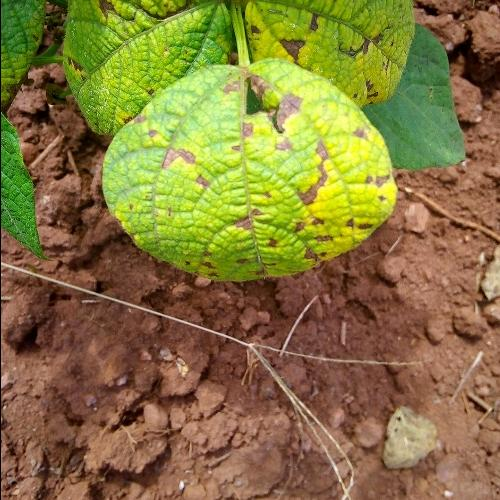mozaik: (87, 90, 377, 298)
